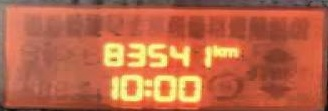0: (175, 73, 200, 103), (151, 71, 175, 101), (118, 72, 140, 101)
1: (200, 42, 210, 68), (108, 73, 118, 99)
3: (123, 39, 143, 67)
4: (168, 42, 190, 67)
5: (146, 41, 165, 68)
8: (100, 41, 121, 67)
X: (223, 44, 240, 58), (142, 76, 152, 97), (212, 41, 222, 57)
